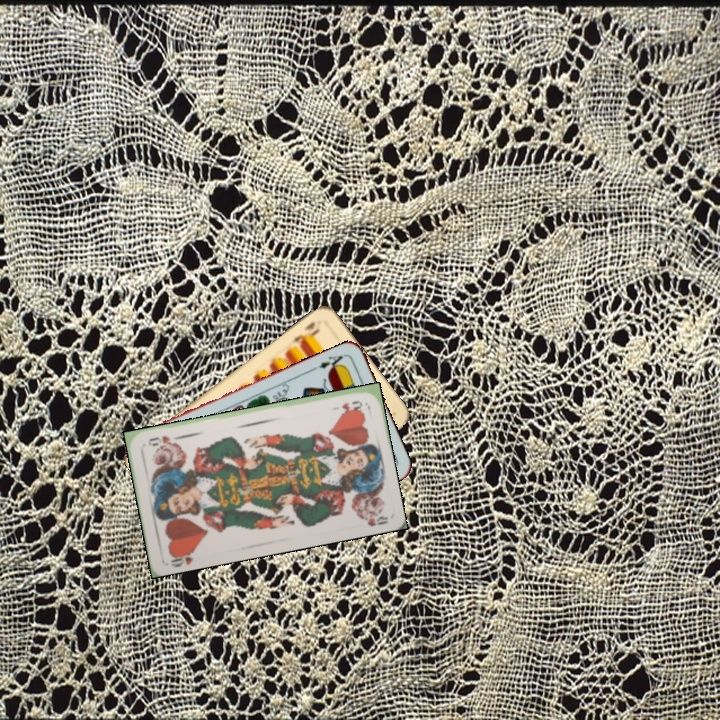E10: (288, 318, 322, 348)
EA: (310, 350, 348, 374)
HO: (165, 544, 200, 569), (337, 396, 365, 412)
